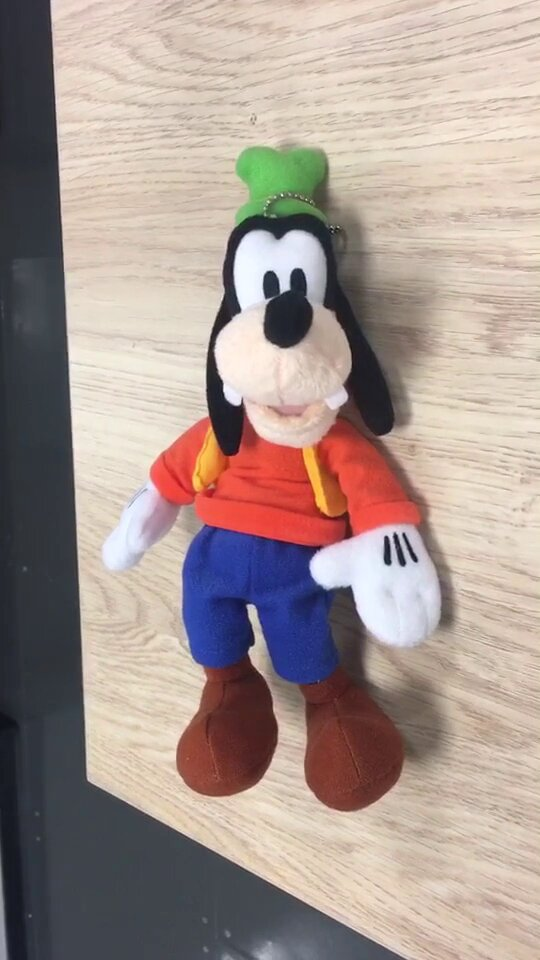goofy: (99, 140, 447, 816)
